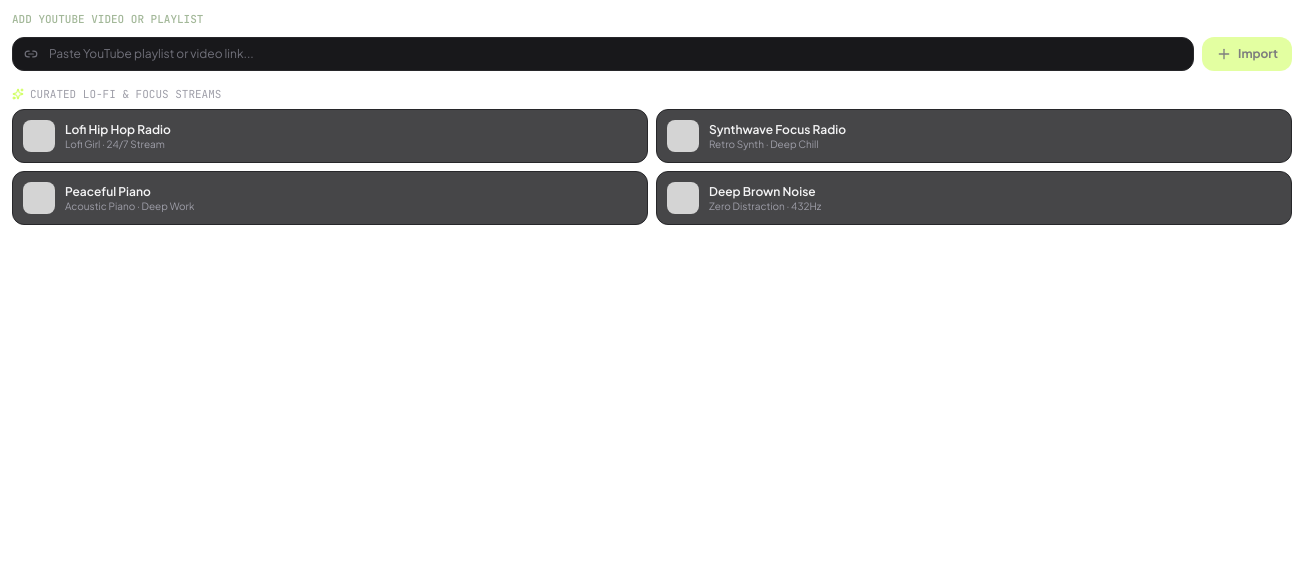
Test case: Task 3 — Reuse EduHub YouTube Playlist Import in Focus Radio › imports YouTube playlist in Focus Radio using shared fetchYouTubePlaylistPreview
This screenshot has width=1304, height=567.
# Enter playlist link
Step 1. Type "https://www.youtube.com/playlist?list=PL_study_lofi_ambient_2026" into the field with placeholder "Paste YouTube playlist or video link..." → (603, 54), box [12, 37, 1194, 71]
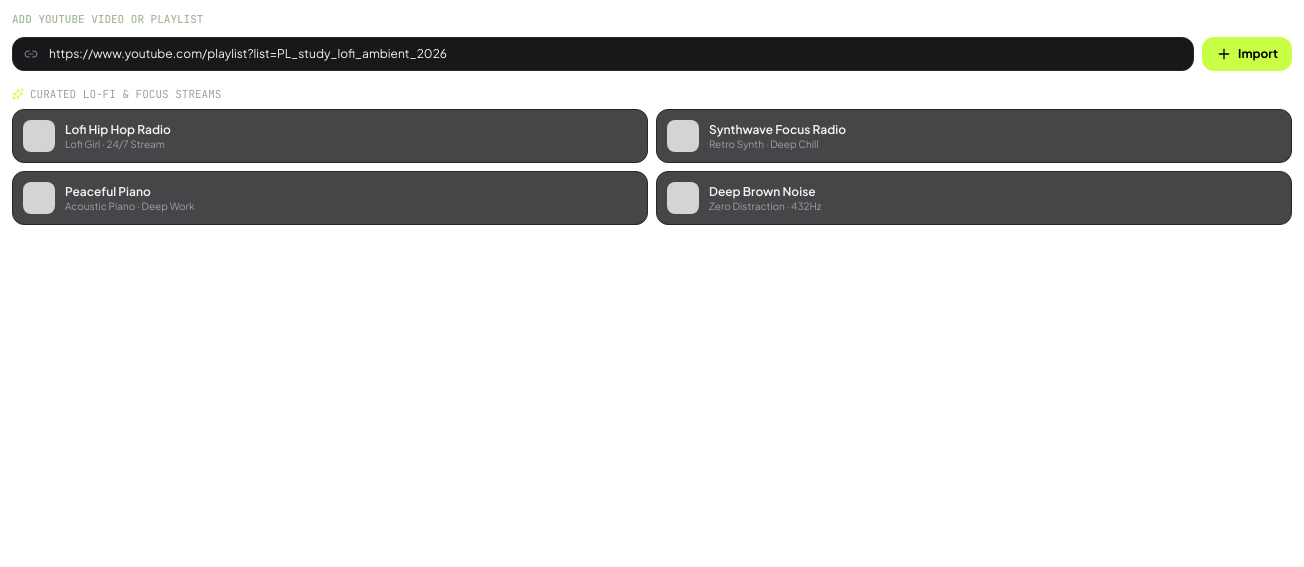
Step 2. Click the button "Import" → (1247, 54), box [1202, 37, 1292, 71]
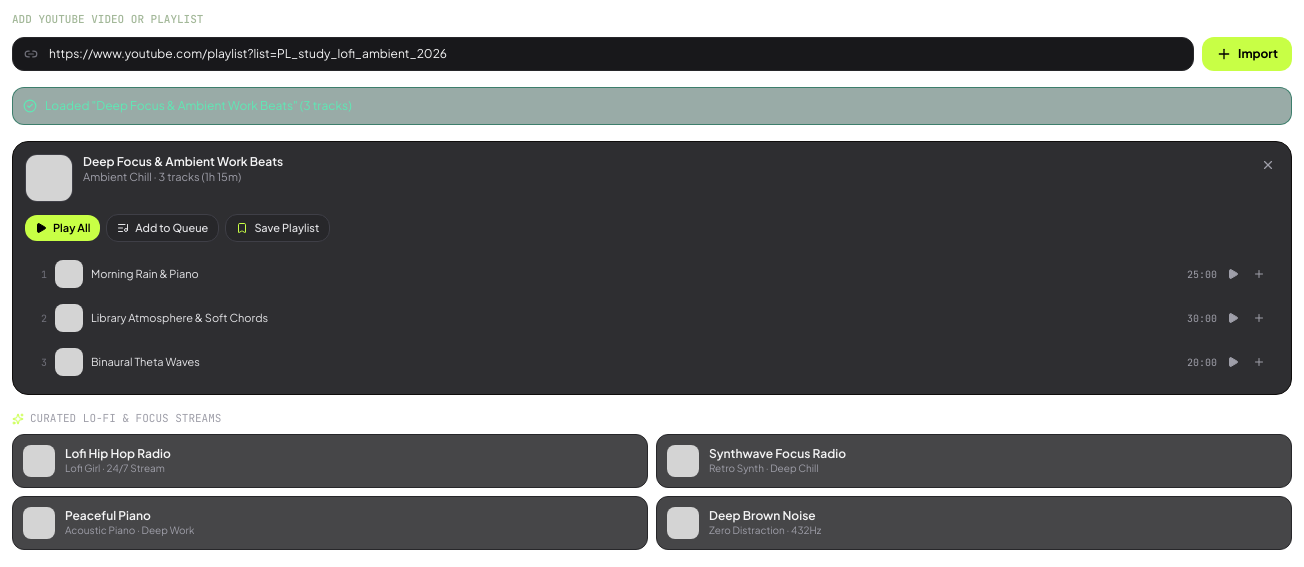
Now the heading "Deep Focus & Ambient Work Beats" is shown, box [83, 154, 283, 170]
Now the text "Morning Rain & Piano" is shown, box [91, 267, 199, 282]
Now the text "Library Atmosphere & Soft Chords" is shown, box [91, 311, 268, 326]
